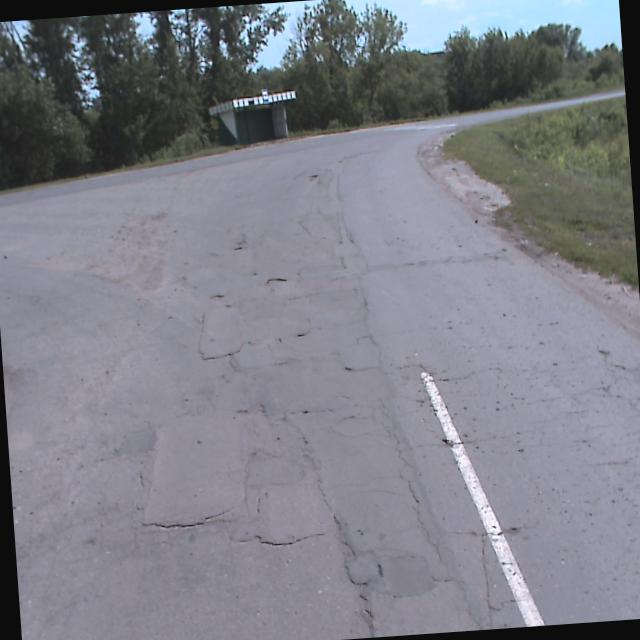road: (0, 89, 640, 640)
